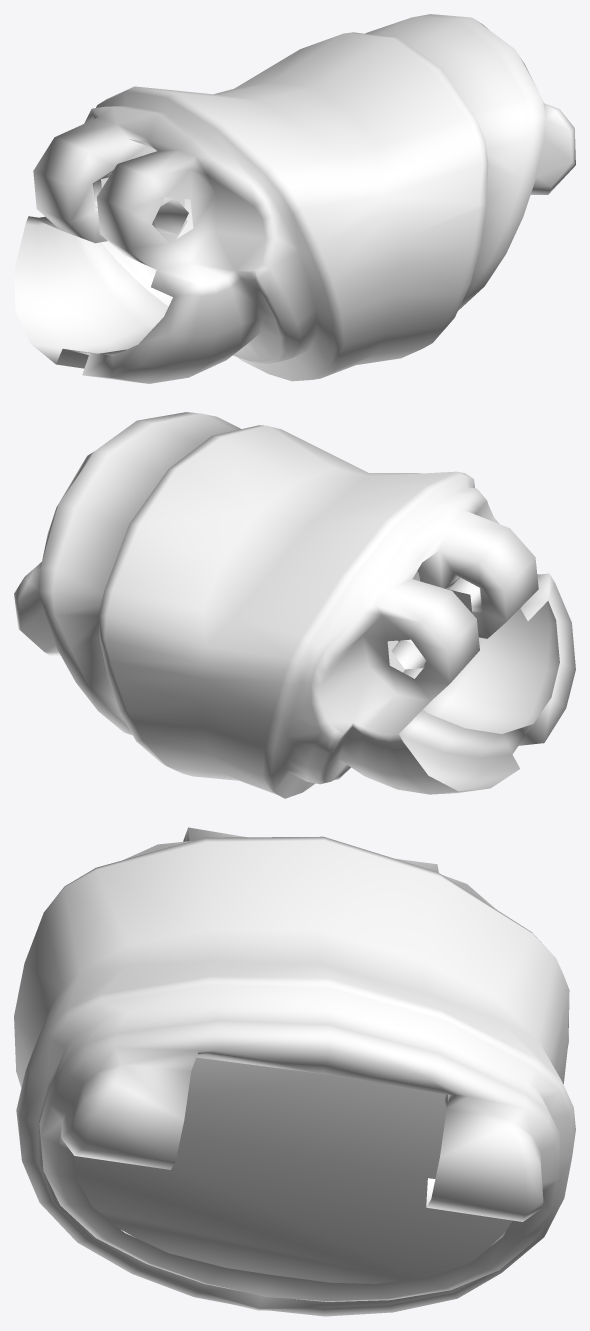
File: RFinger12.1.dae
The picture shows the model from 3 angles, top to bottom: view 1: azimuth 30°, elevation 25°; view 2: azimuth 150°, elevation 25°; view 3: azimuth 270°, elevation 25°; orthographic projection. The views are drawn at different scales.
Visible parts, largest first — view 1: RFinger12; view 2: RFinger12; view 3: RFinger12.
Boxes of the visible parts, left/top/right/bottom form: RFinger12: left=14, top=14, right=575, bottom=383; RFinger12: left=14, top=412, right=575, bottom=798; RFinger12: left=14, top=827, right=575, bottom=1316.
Bounding box in the file's own units: 0.0194 × 0.016 × 0.0119.
Materials: 1 (1 with a texture image).
